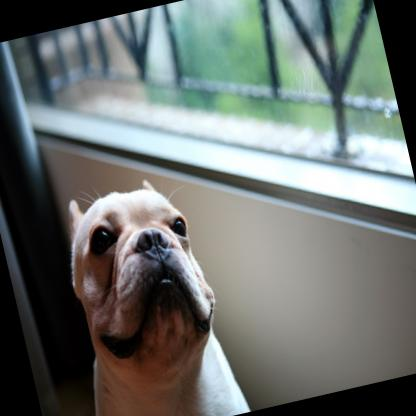French_bulldog: (34, 158, 254, 416)
